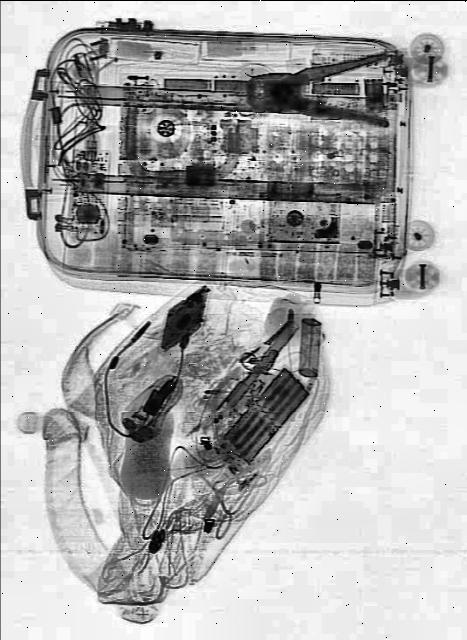Pliers: (245, 53, 389, 133)
